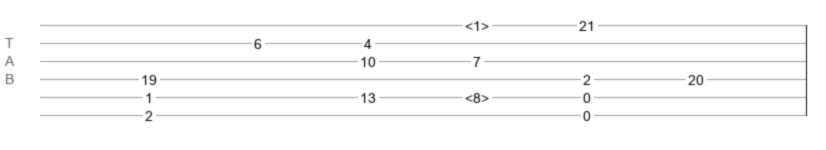0: (583, 108, 591, 118), (583, 90, 591, 100)
1: (145, 90, 153, 100)
10: (360, 54, 376, 64)
13: (360, 90, 376, 100)
19: (141, 72, 157, 82)
2: (145, 108, 153, 118), (583, 72, 591, 82)
20: (688, 72, 704, 82)
21: (579, 18, 595, 28)
4: (364, 36, 372, 46)
6: (254, 36, 262, 46)
7: (473, 54, 481, 64)
harmonic: (465, 18, 489, 28), (465, 90, 489, 100)
